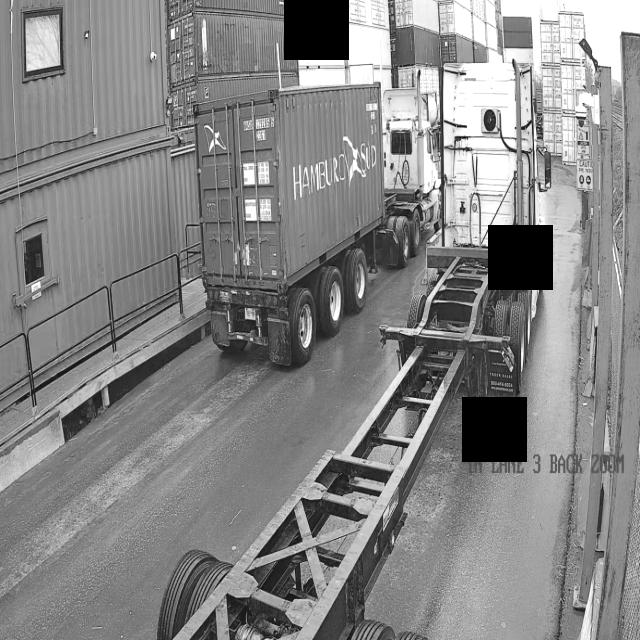container_company_logo: (290, 124, 380, 214)
truck_with_container: (195, 84, 440, 365)
truck_without_container: (158, 61, 551, 640)
